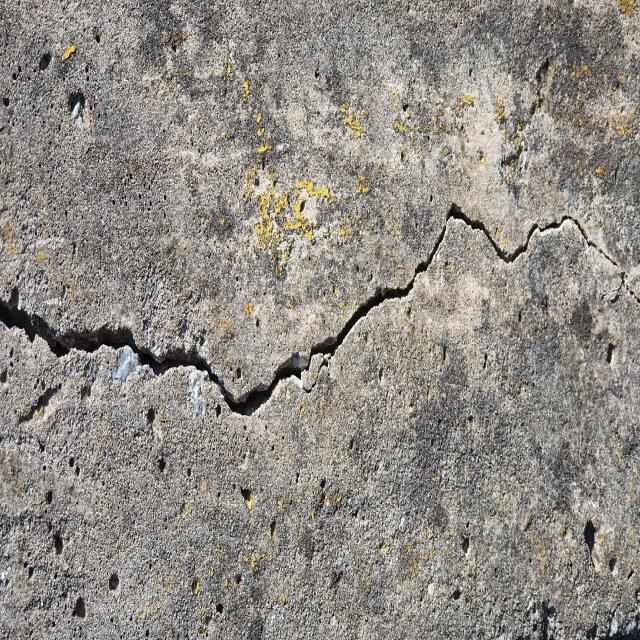SurfaceCrack: (1, 179, 640, 436)
